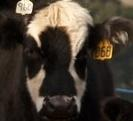muzzles: (35, 95, 80, 119)
